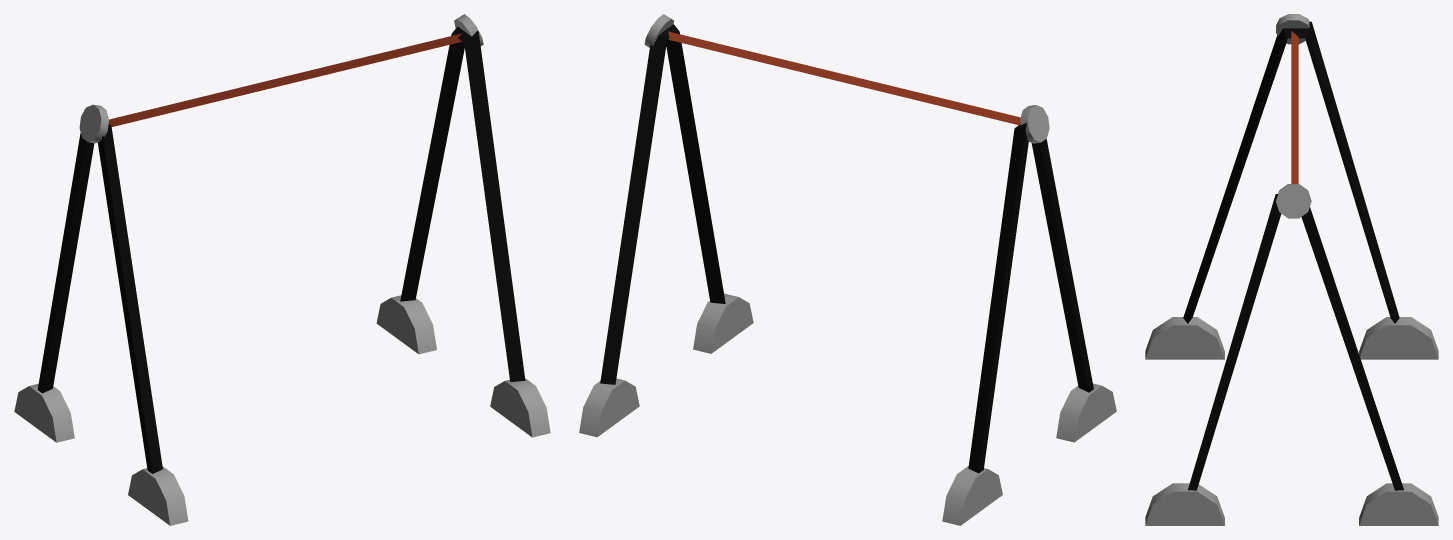
The model's file is Columpio.FBX.
3 views of the same model, side by side, from view 1: azimuth 30°, elevation 25°; view 2: azimuth 150°, elevation 25°; view 3: azimuth 270°, elevation 25° (orthographic). The views are drawn at different scales.
Visible parts, largest first — view 1: Line011; view 2: Line011; view 3: Line011.
Boxes of the visible parts, <box> form: Line011: <box>14,14,550,525</box>; Line011: <box>579,14,1116,525</box>; Line011: <box>1145,14,1438,525</box>.
Size of the model in its own units: 576 by 505 by 396.
